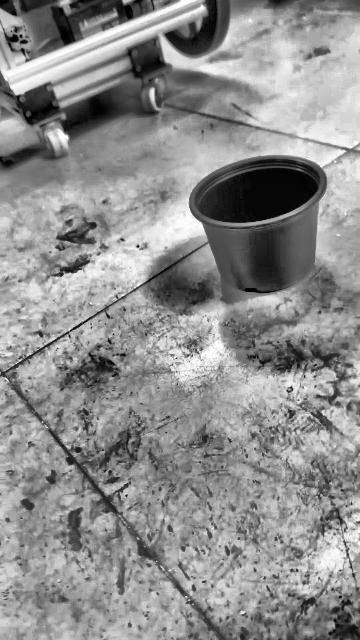pot: (189, 156, 327, 292)
